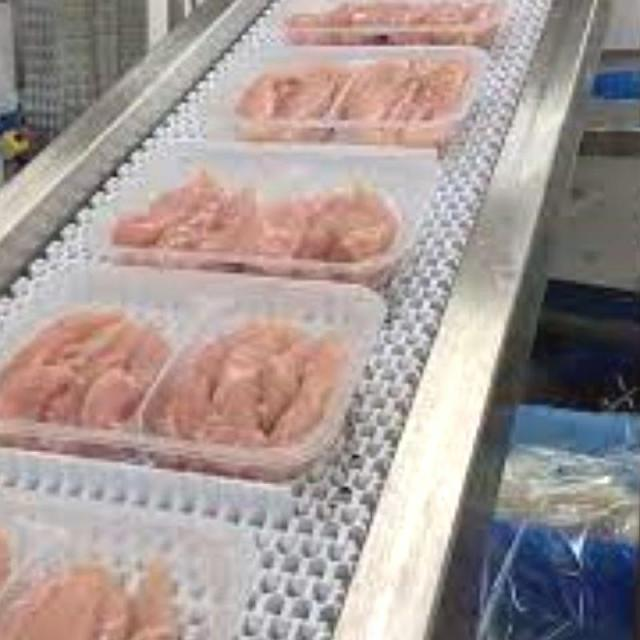food: (0, 287, 397, 469), (96, 146, 414, 284)
